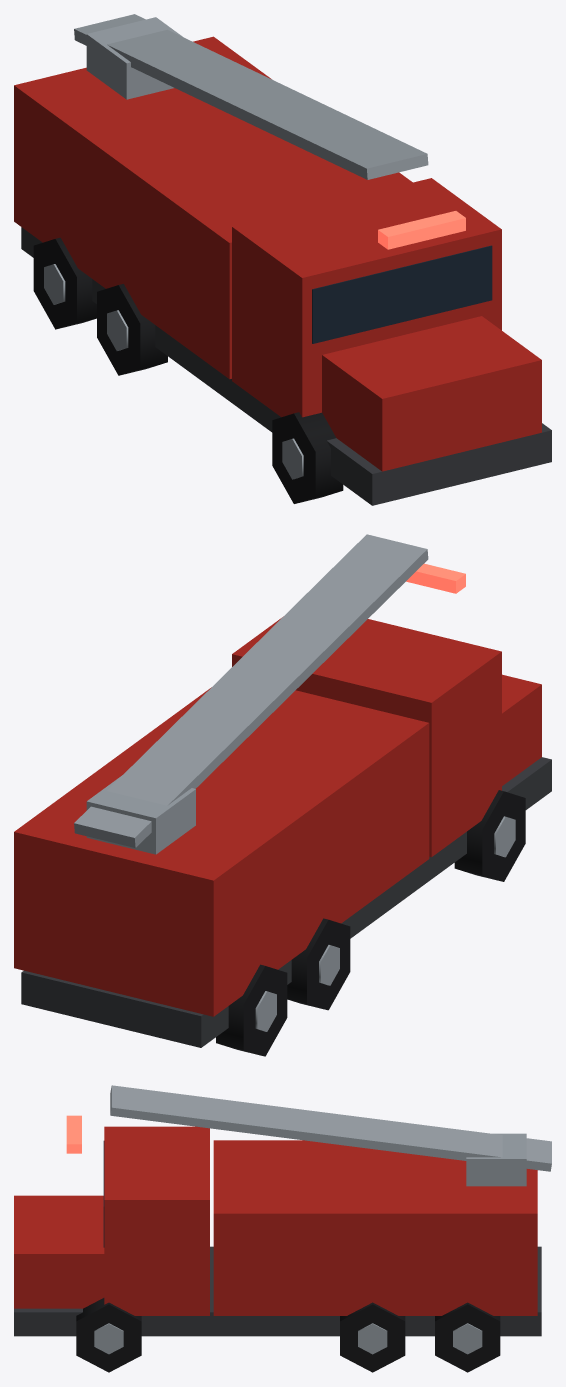
The model's file is veh_ground_fire_truck_a05_lod1.glb.
3 renders of one model, top to bottom at view 1: azimuth 30°, elevation 25°; view 2: azimuth 150°, elevation 25°; view 3: azimuth 270°, elevation 25°, orthographic. The views are drawn at different scales.
Visible parts, largest first — view 1: body, ladder, wheel_4, wheel_2, wheel_0; view 2: body, ladder, wheel_0, wheel_4, wheel_2; view 3: body, ladder, wheel_5, wheel_1, wheel_3.
Part boxes in pixels (x1,y1,x2,y2): body: (14, 36, 551, 505); ladder: (74, 14, 428, 179); wheel_4: (272, 412, 343, 503); wheel_2: (97, 284, 167, 375); wheel_0: (33, 237, 96, 329); body: (14, 563, 551, 1047); ladder: (74, 534, 428, 854); wheel_0: (216, 964, 287, 1056); wheel_4: (454, 790, 525, 881); wheel_2: (287, 918, 350, 1010); body: (14, 1115, 541, 1336); ladder: (110, 1085, 551, 1186); wheel_5: (76, 1298, 141, 1372); wheel_1: (435, 1302, 500, 1372); wheel_3: (340, 1302, 405, 1372).
Size of the model in its own units: 2.46 by 3.48 by 7.14.
